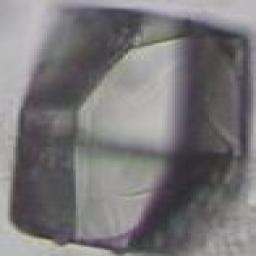crystals: (10, 7, 248, 253)
